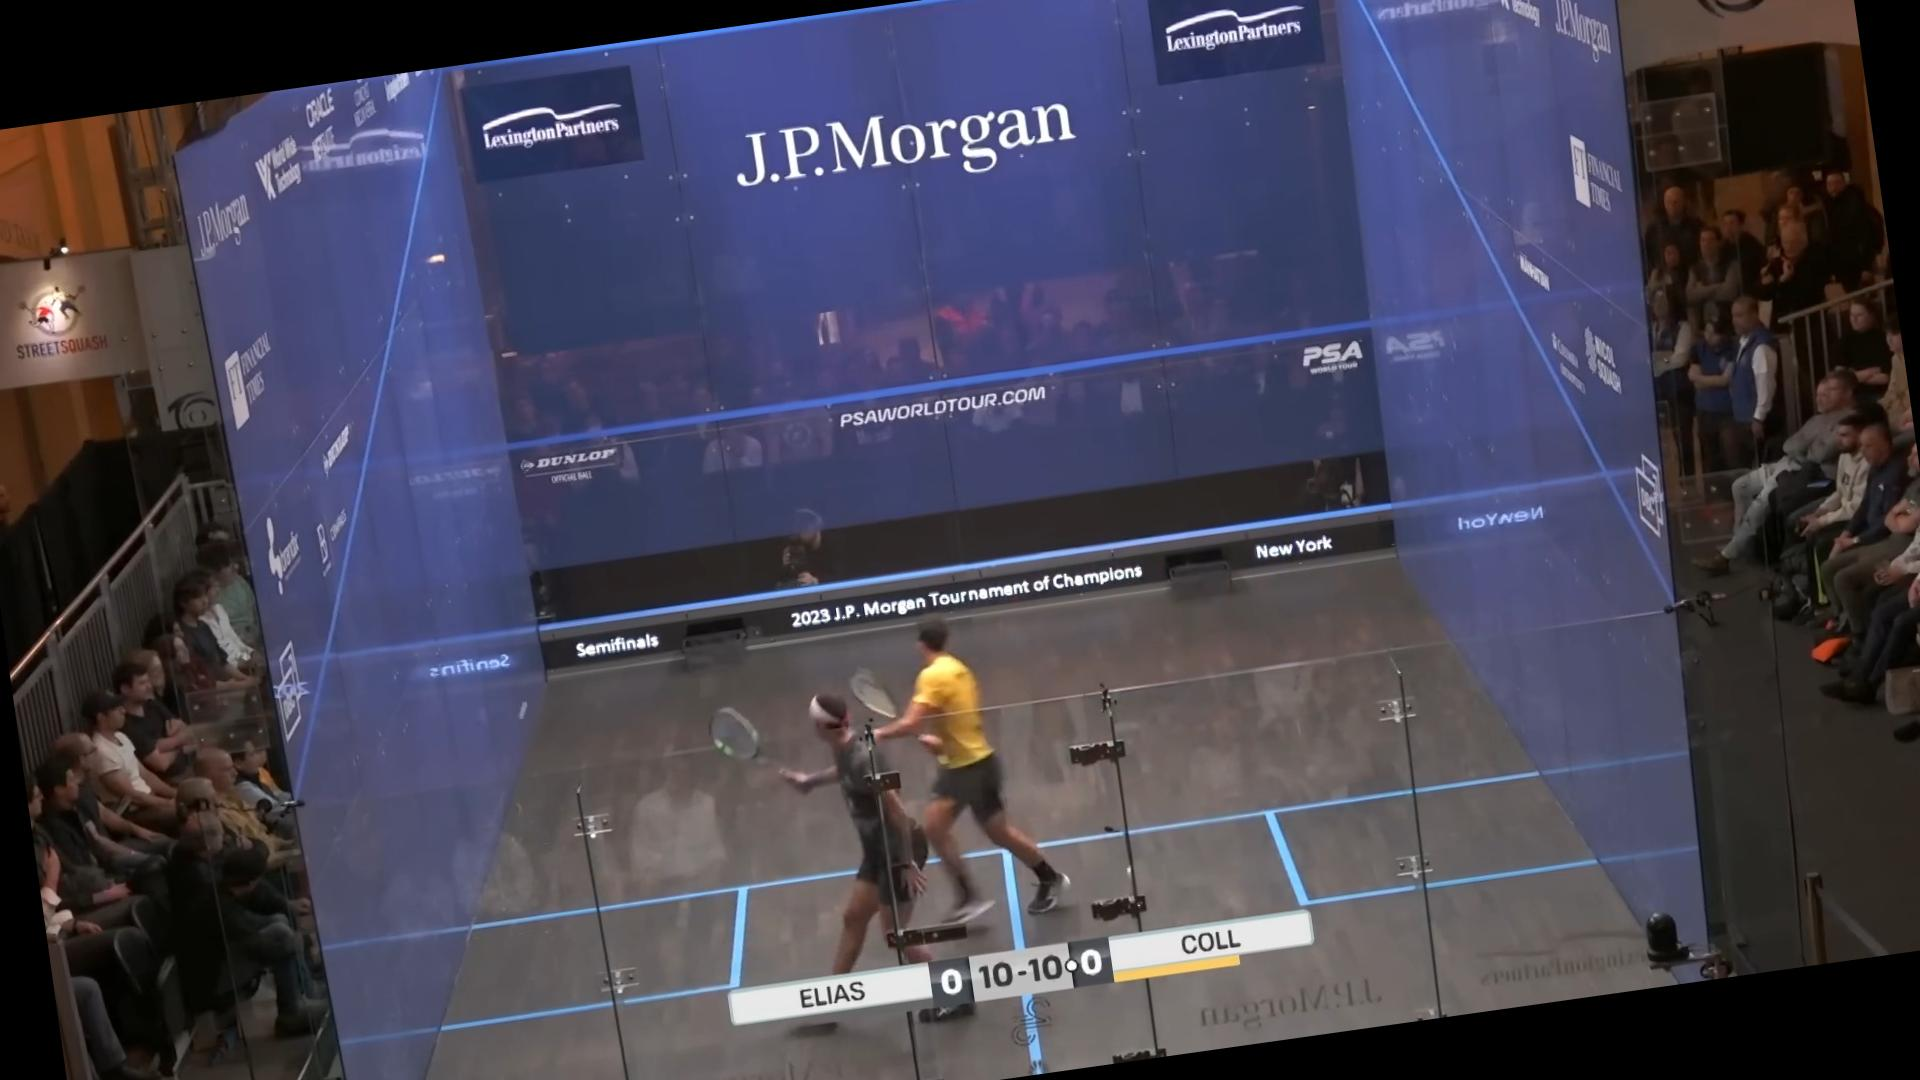Racket: (688, 688, 795, 800), (840, 654, 907, 729)
